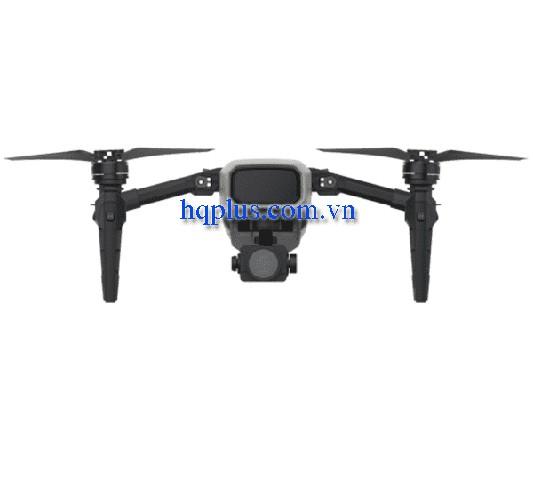maybay_khongnguoilai: (9, 136, 525, 309)
